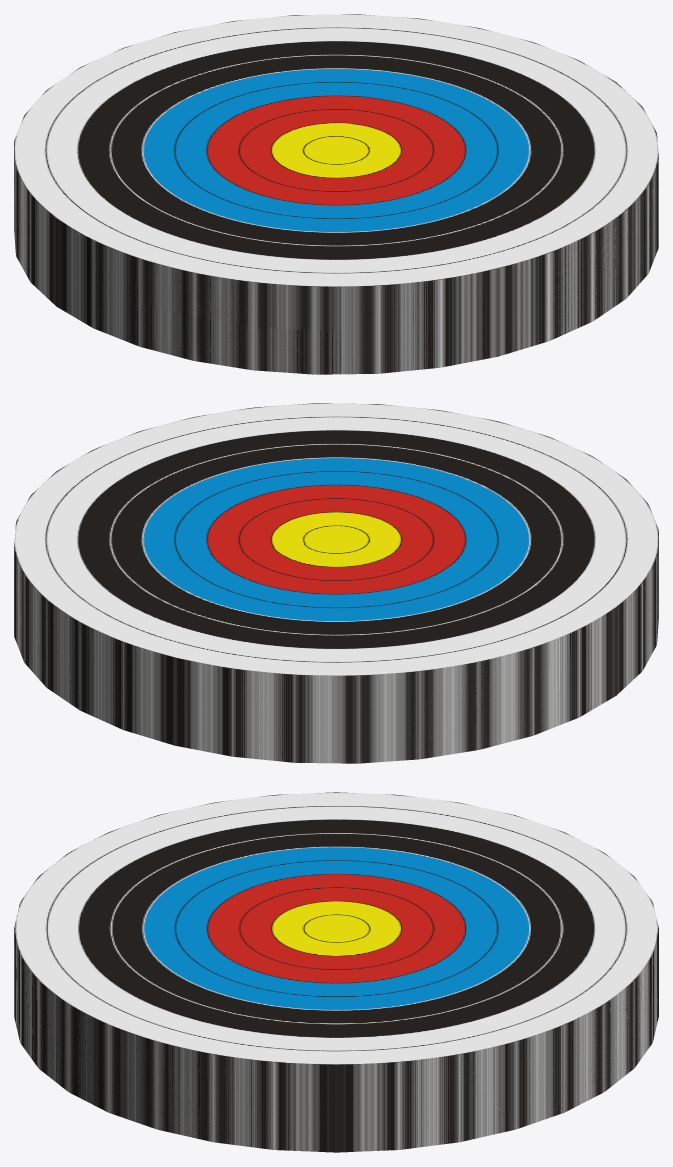
File: Target_Shattered.fbx
3 views of the same model, one above another, from view 1: azimuth 30°, elevation 25°; view 2: azimuth 150°, elevation 25°; view 3: azimuth 270°, elevation 25° (orthographic).
Parts seen in each view (by area): view 1: Cylinder, Cylinder_cell.001, Cylinder_cell.010, Cylinder_cell.009, Cylinder_cell.002, Cylinder_cell.003, Cylinder_cell.008, Cylinder_cell.007, Cylinder_cell.004, Cylinder_cell.006; view 2: Cylinder, Cylinder_cell.009, Cylinder_cell.002, Cylinder_cell.010, Cylinder_cell.001, Cylinder_cell.003; view 3: Cylinder, Cylinder_cell.010, Cylinder_cell.001, Cylinder_cell.009, Cylinder_cell.002, Cylinder_cell.003, Cylinder_cell, Cylinder_cell.006, Cylinder_cell.011.
Part boxes in pixels (box(x1,y1,x2,y2)): Cylinder: box(19, 18, 658, 374); Cylinder_cell.001: box(337, 19, 628, 150); Cylinder_cell.010: box(150, 14, 419, 149); Cylinder_cell.009: box(25, 40, 335, 150); Cylinder_cell.002: box(14, 115, 334, 268); Cylinder_cell.003: box(23, 155, 296, 342); Cylinder_cell.008: box(140, 259, 418, 330); Cylinder_cell.007: box(347, 269, 497, 373); Cylinder_cell.004: box(498, 247, 637, 349); Cylinder_cell.006: box(570, 174, 653, 273); Cylinder: box(14, 403, 658, 763); Cylinder_cell.009: box(204, 540, 419, 763); Cylinder_cell.002: box(337, 540, 555, 758); Cylinder_cell.010: box(25, 540, 334, 750); Cylinder_cell.001: box(14, 460, 335, 574); Cylinder_cell.003: box(442, 551, 656, 725); Cylinder: box(14, 792, 658, 1152); Cylinder_cell.010: box(339, 915, 658, 1092); Cylinder_cell.001: box(305, 929, 563, 1152); Cylinder_cell.009: box(338, 832, 655, 928); Cylinder_cell.002: box(337, 799, 563, 927); Cylinder_cell.003: box(216, 792, 428, 888); Cylinder_cell: box(89, 1041, 229, 1143); Cylinder_cell.006: box(26, 964, 132, 1090); Cylinder_cell.011: box(134, 1035, 304, 1151).
Bounding box in the file's own units: 200 × 30 × 200.
